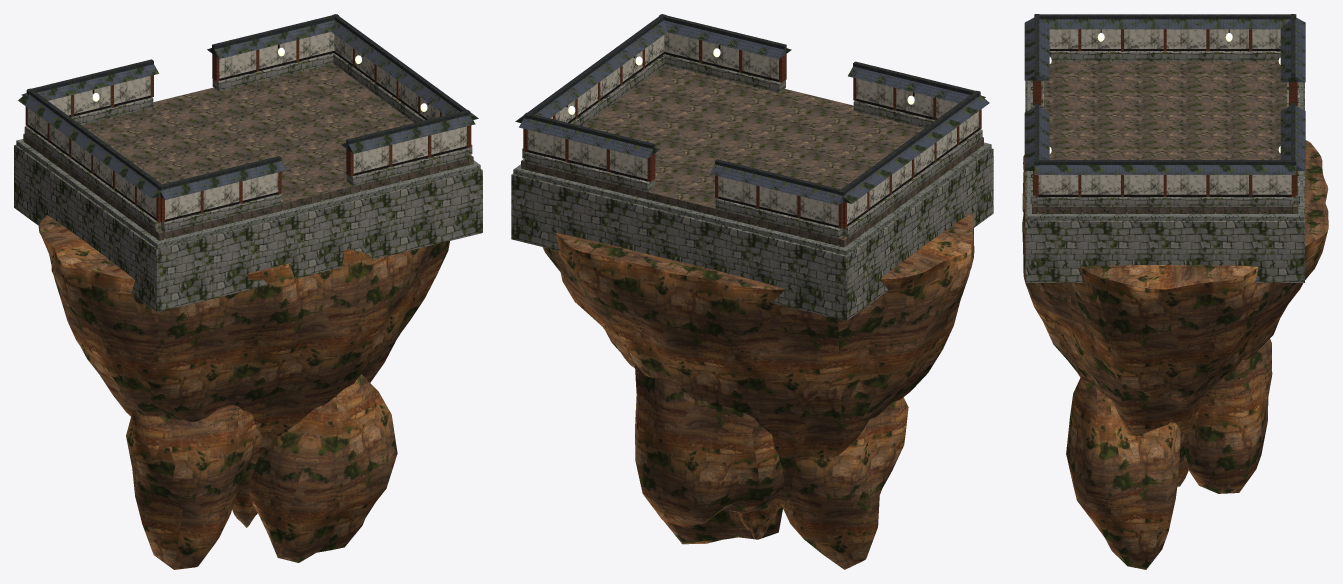
Rendered from Room_CombatB.fbx.
The picture shows the model from 3 angles, left to right: view 1: azimuth 30°, elevation 25°; view 2: azimuth 150°, elevation 25°; view 3: azimuth 270°, elevation 25°; orthographic projection. The views are drawn at different scales.
Visible parts, largest first — view 1: CombatB_Structure_LOD0, CombatB_Rock_LOD0; view 2: CombatB_Structure_LOD0, CombatB_Rock_LOD0; view 3: CombatB_Structure_LOD0, CombatB_Rock_LOD0.
Part boxes in pixels (box(x1,y1,x2,y2)): CombatB_Structure_LOD0: box(14, 14, 482, 312); CombatB_Rock_LOD0: box(38, 215, 449, 569); CombatB_Structure_LOD0: box(511, 14, 993, 320); CombatB_Rock_LOD0: box(542, 213, 974, 569); CombatB_Structure_LOD0: box(1024, 14, 1305, 282); CombatB_Rock_LOD0: box(1022, 140, 1328, 569).
Size of what is drawn, in the model's own units: 31.26 by 33.16 by 20.71.
